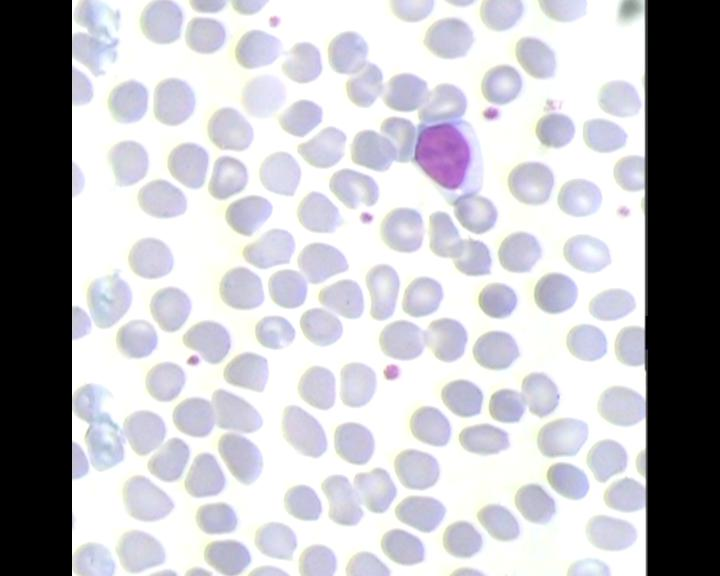lymp: (407, 119, 492, 202)
